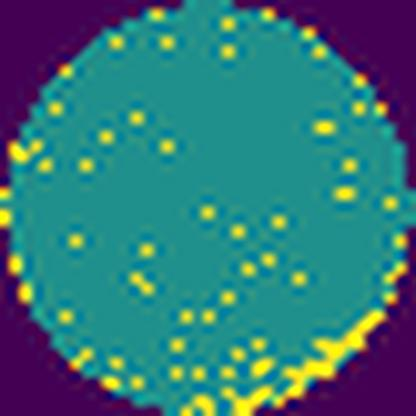Edge-Loc: (272, 296, 390, 415), (223, 375, 272, 416)
